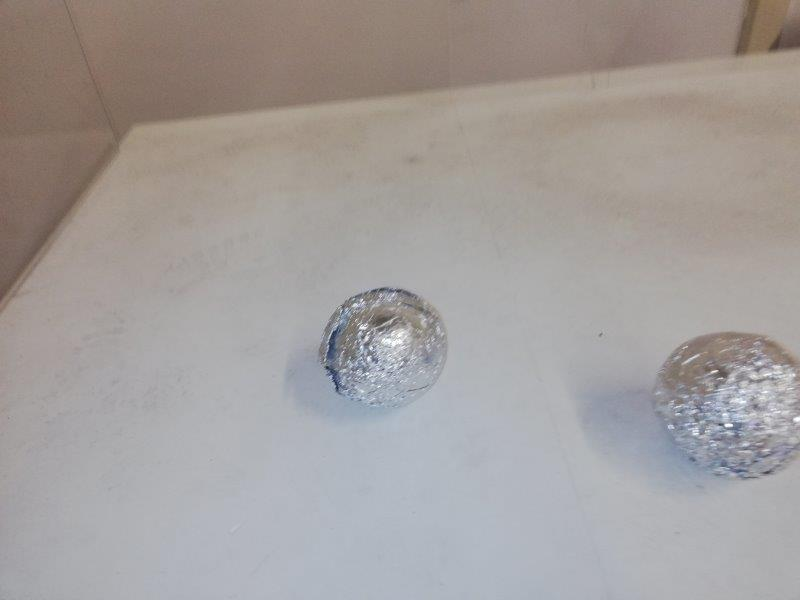bianca: (653, 331, 800, 480), (317, 285, 449, 411)
